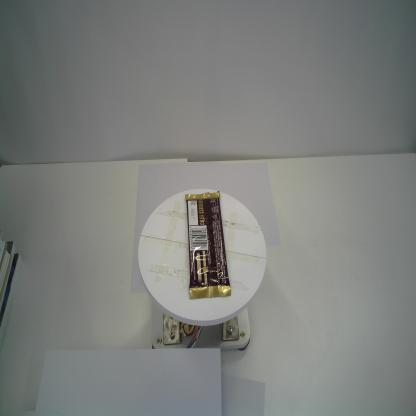Chocolate: (184, 189, 232, 300)
